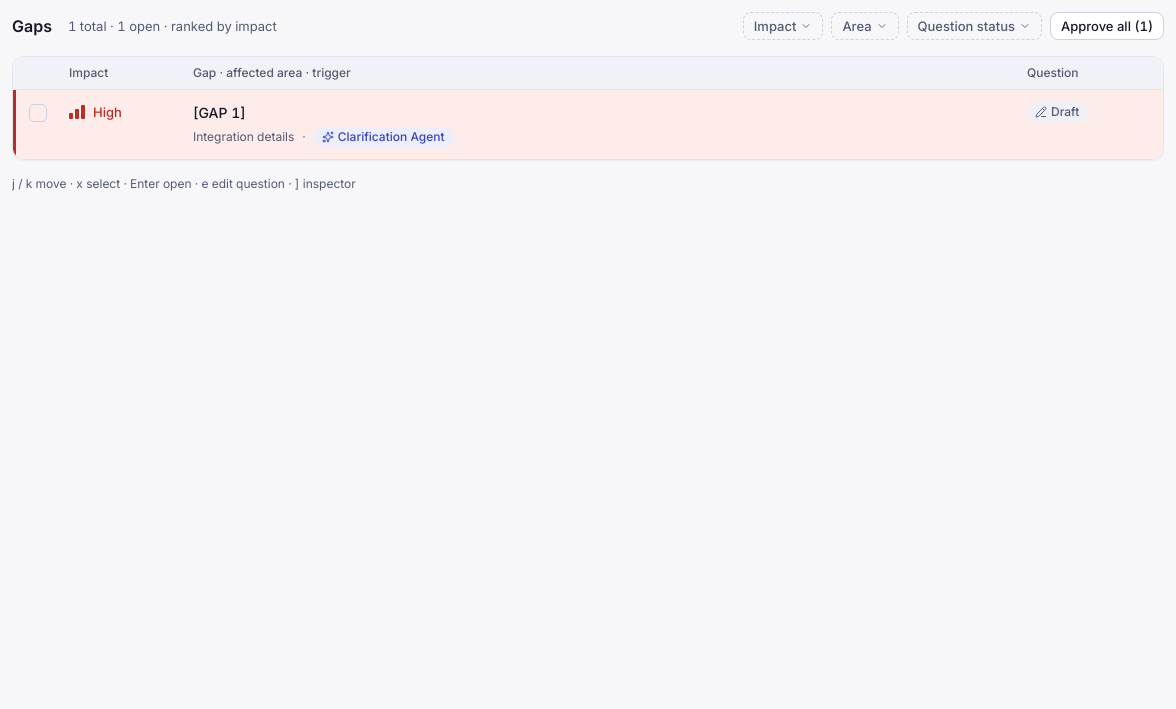
Test: editing questions › a 409 question_not_editable says the question was sent and re-reads the Gaps
The image size is (1176, 709).
Click the button "[GAP 1]".
click(219, 112)  # box [193, 102, 246, 123]
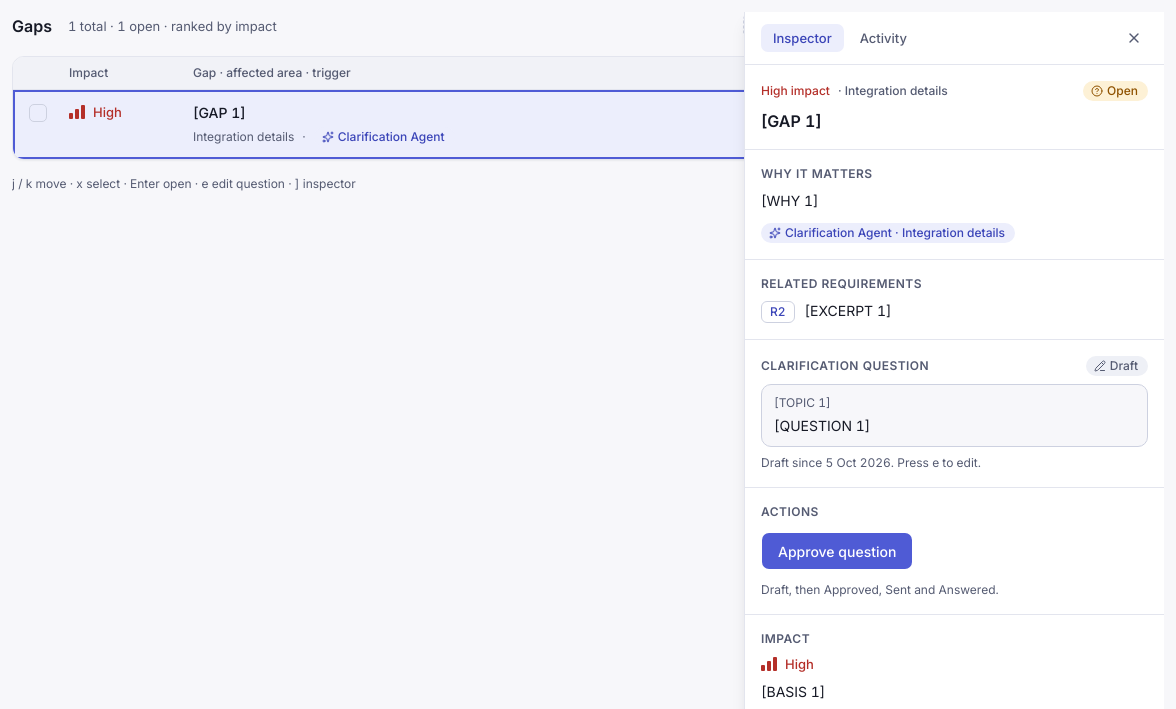
Click the button named "Edit question".
click(954, 426)  # box [774, 415, 1135, 436]
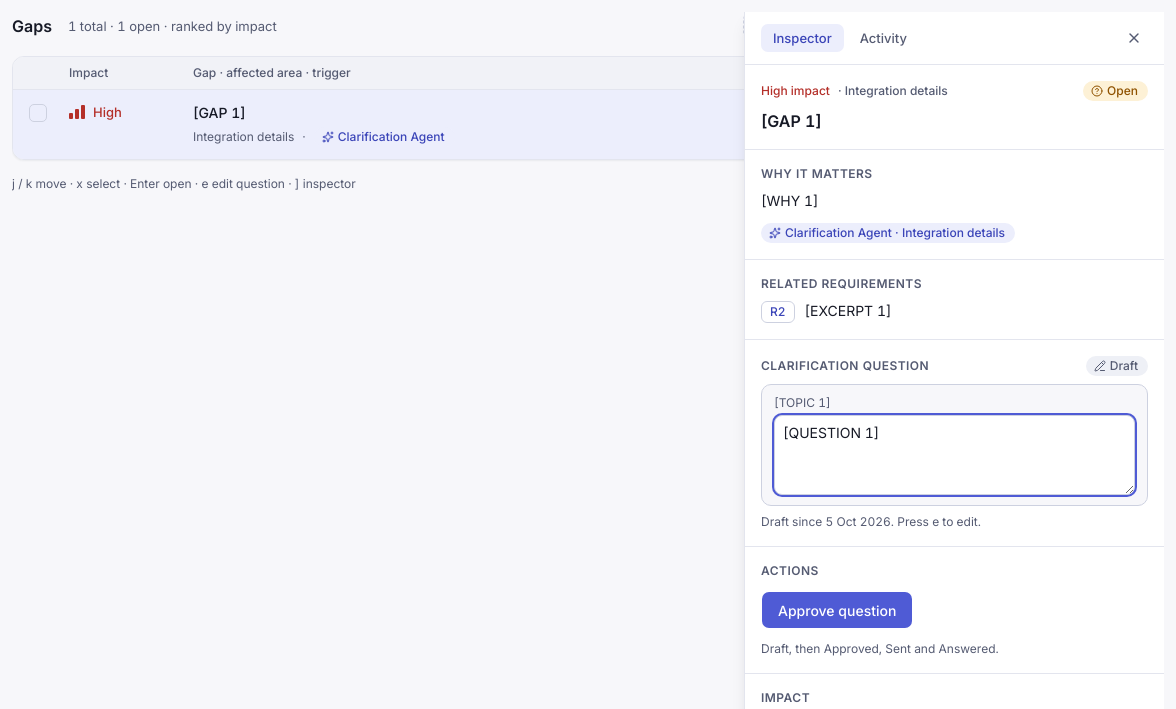
Replace the text in the text box named "Question" with "Other wording" at (954, 455), box [774, 415, 1135, 495]
Then press Enter
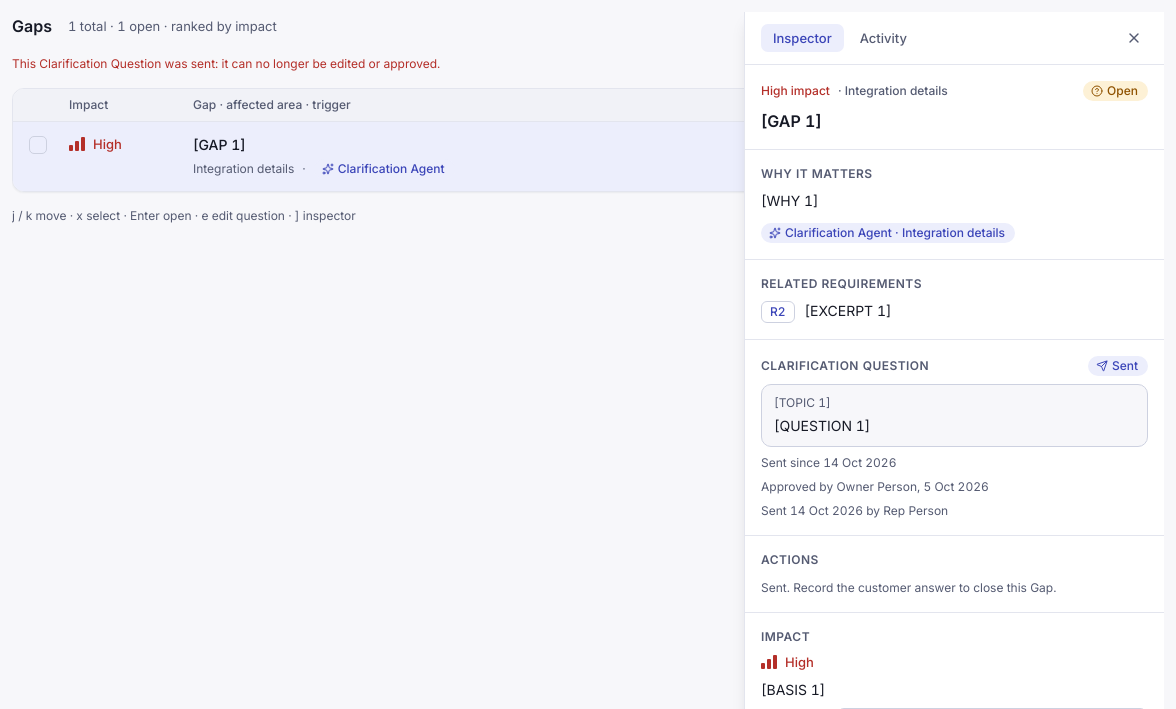
Expected: the text "This Clarification Question was sent: it can no longer be edited or approved." is shown, [12, 56, 440, 71]
